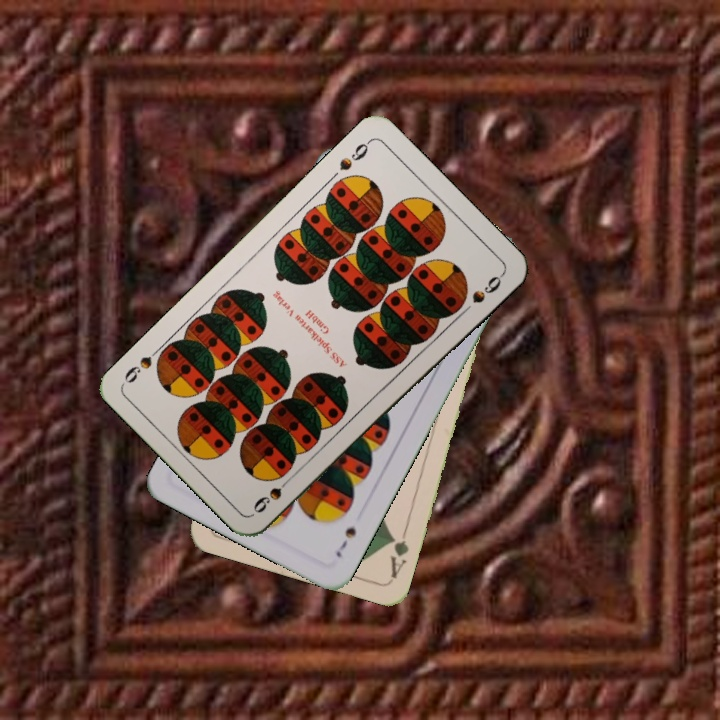GA: (386, 523, 412, 582)
S7: (331, 523, 359, 560)
S9: (249, 470, 297, 516), (335, 136, 374, 173)
